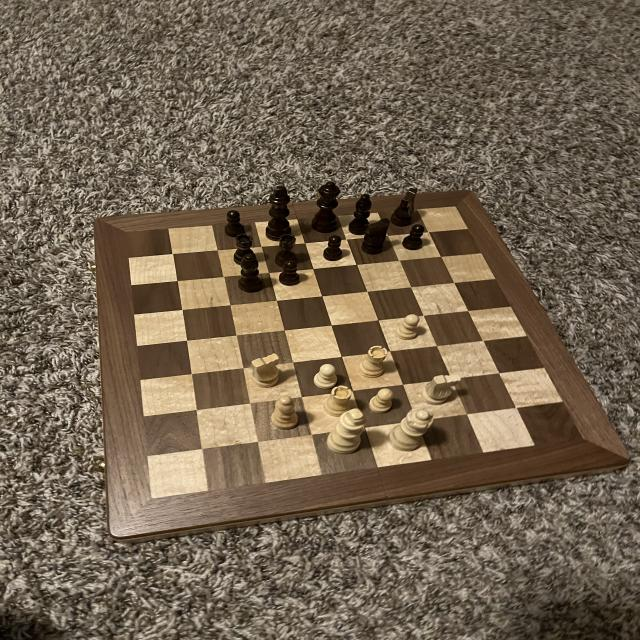bishop: (345, 192, 378, 235), (233, 252, 265, 296)
black-bishop: (265, 184, 295, 242)
black-king: (388, 186, 419, 227), (360, 218, 392, 256)
black-knight: (401, 222, 429, 252), (275, 259, 304, 287), (321, 235, 348, 262), (222, 209, 247, 238)
black-pawn: (307, 180, 343, 234)
black-queen: (272, 232, 302, 268), (232, 234, 259, 266)
black-rook: (268, 395, 302, 431)
white-bishop: (326, 408, 366, 455)
white-king: (246, 352, 286, 391), (423, 372, 465, 406)
white-knight: (311, 362, 339, 390), (394, 313, 421, 342), (368, 386, 394, 413)
white-pawn: (386, 405, 436, 454)
white-queen: (321, 385, 355, 421), (358, 343, 392, 378)
